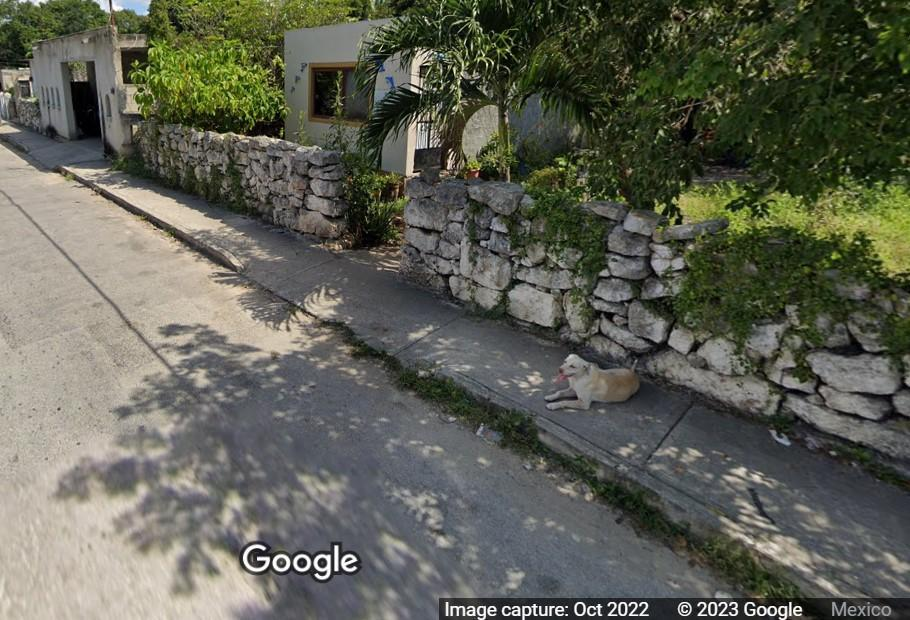normal_dogs: (526, 315, 654, 424)
